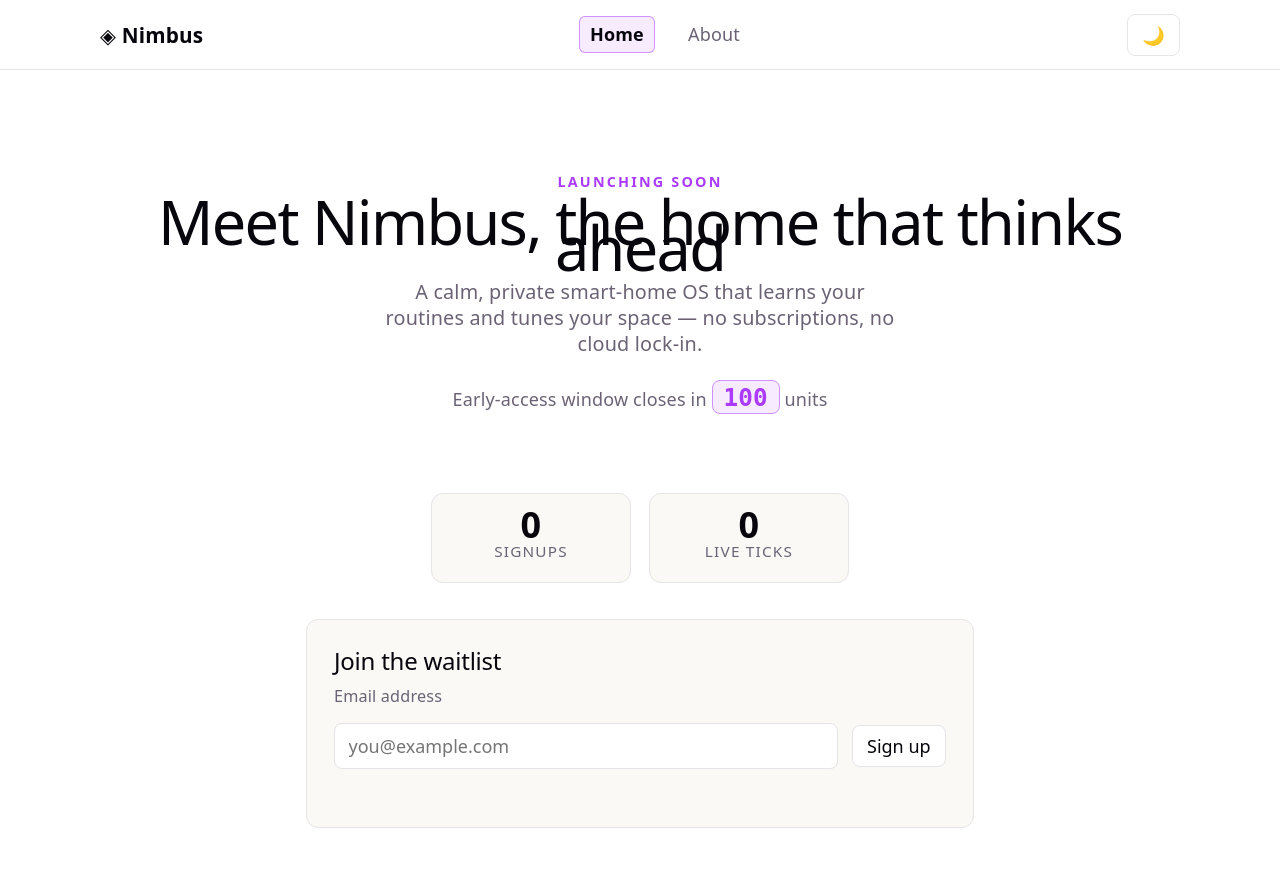
Scenario: signup form › rejects an invalid address with an error and does not add it
Type "not-an-email" into the field labelled "Email address" at {"x": 586, "y": 746}, box x1=334 y1=723 x2=838 y2=769
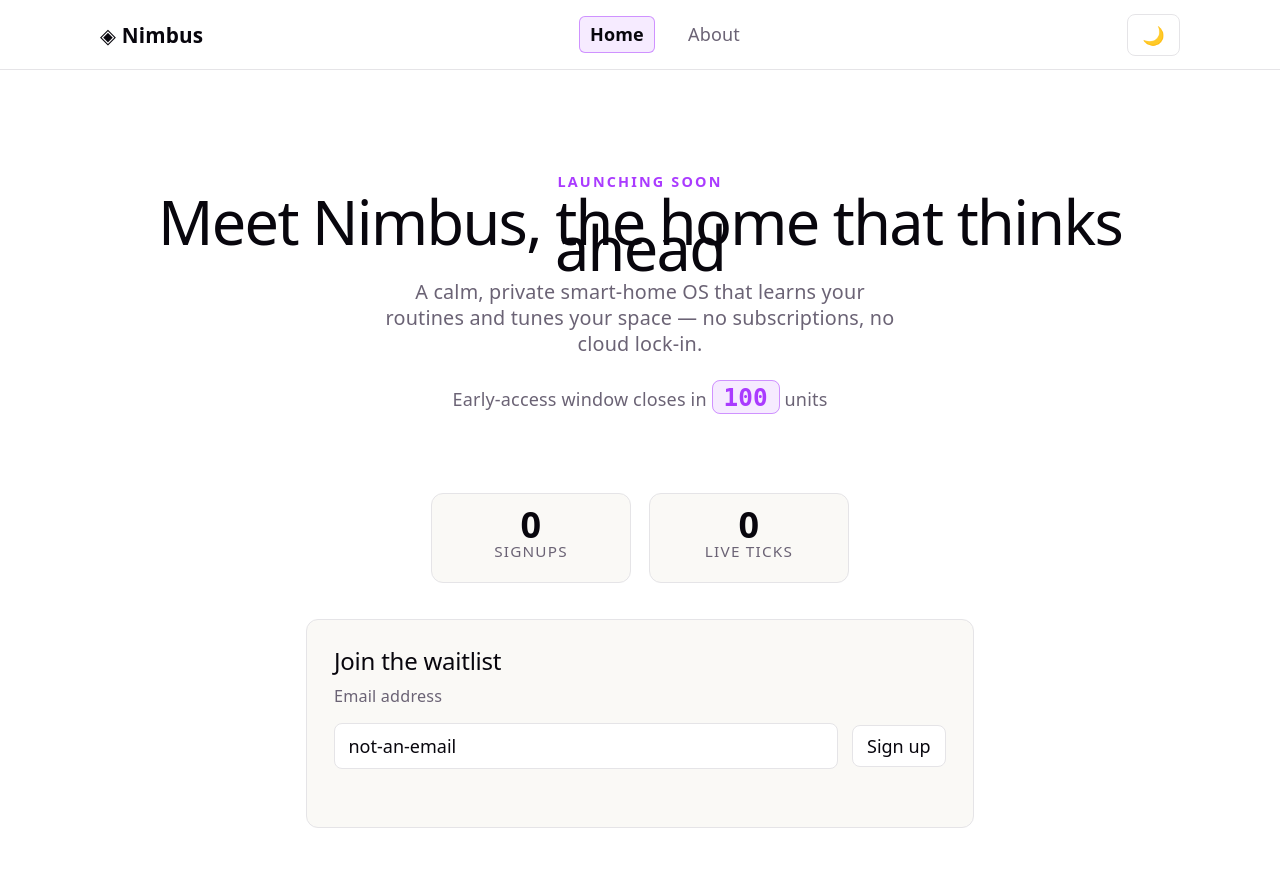
Submit the form with id "signup-form", box x1=334 y1=683 x2=946 y2=769
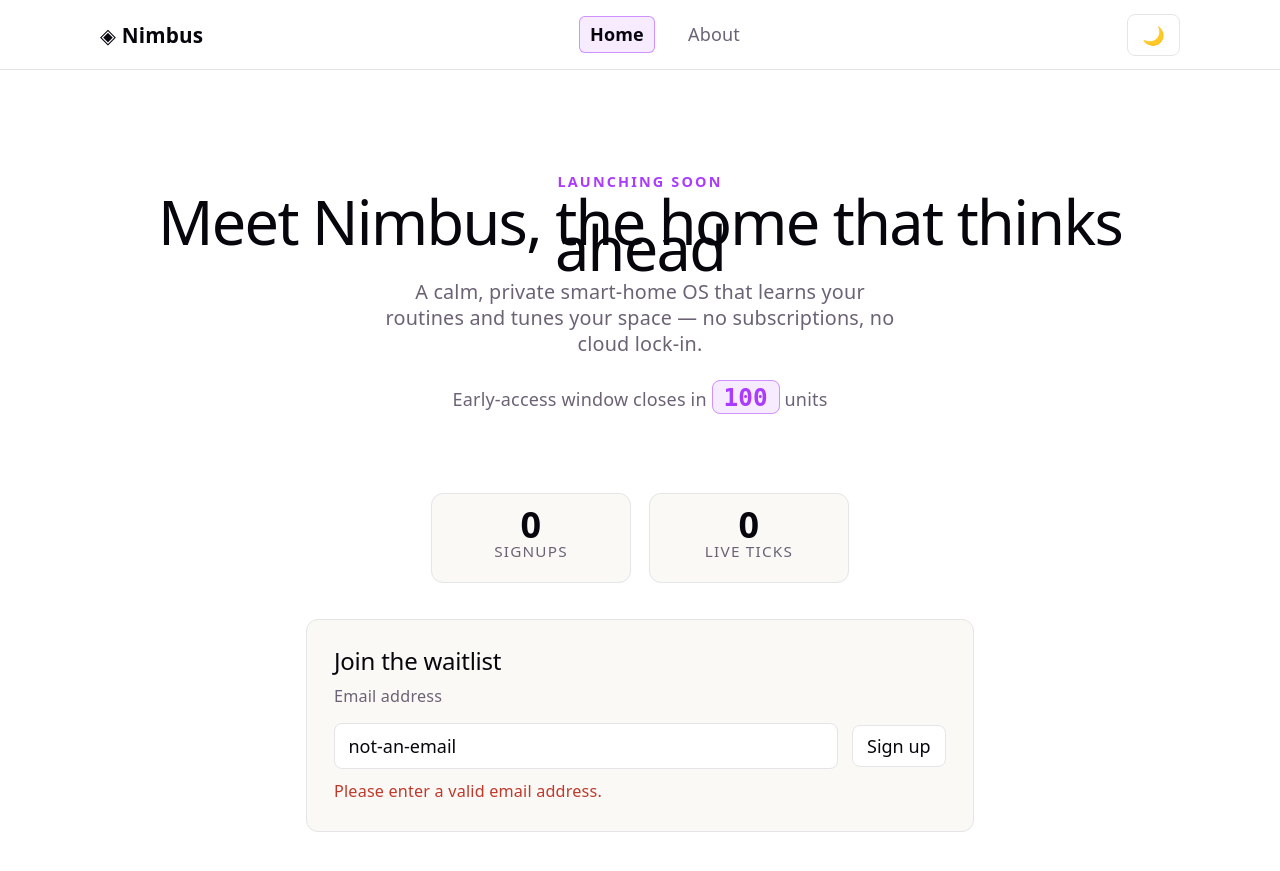
Expected: the text with id "stat-signups" reads "0", x1=521 y1=500 x2=541 y2=549
Now the message with id "signup-error" shows "valid email", box x1=334 y1=780 x2=602 y2=802
